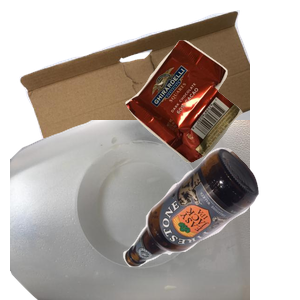cardboard: (16, 10, 256, 190)
glass: (120, 145, 300, 300)
plastic: (10, 120, 250, 300)
trash: (123, 37, 300, 192)
